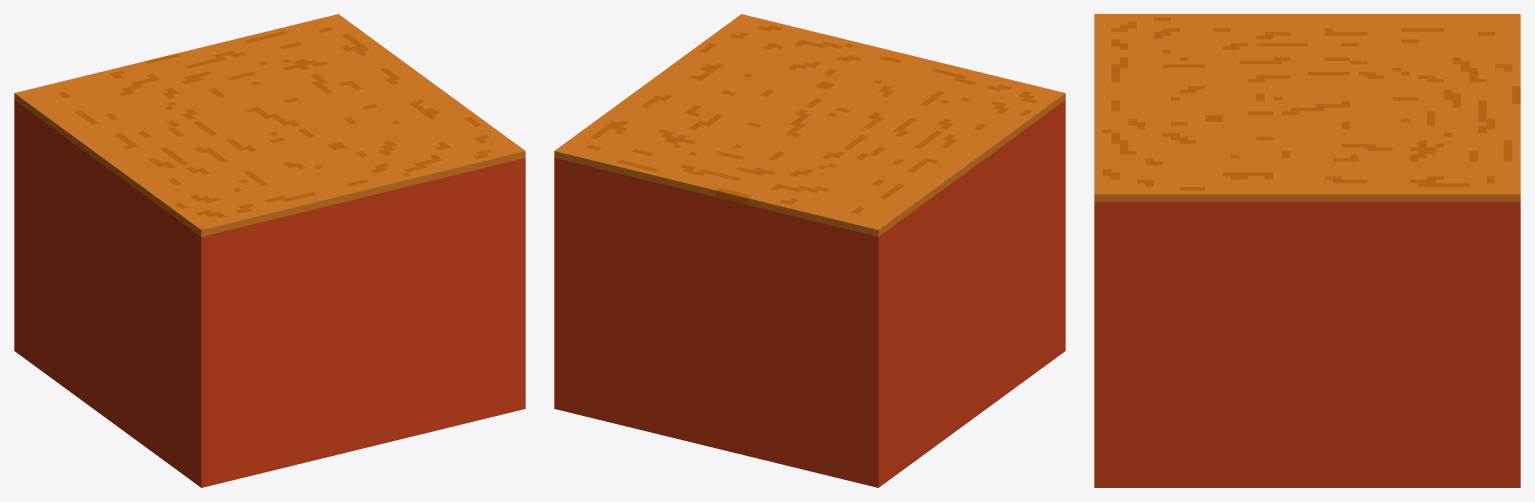
Rendered from western13.obj.
3 views of the same model, side by side, from view 1: azimuth 30°, elevation 25°; view 2: azimuth 150°, elevation 25°; view 3: azimuth 270°, elevation 25° (orthographic). The views are drawn at different scales.
Bounding box in the file's own units: 5 × 3.8 × 5.
Materials: 1 (1 with a texture image).
